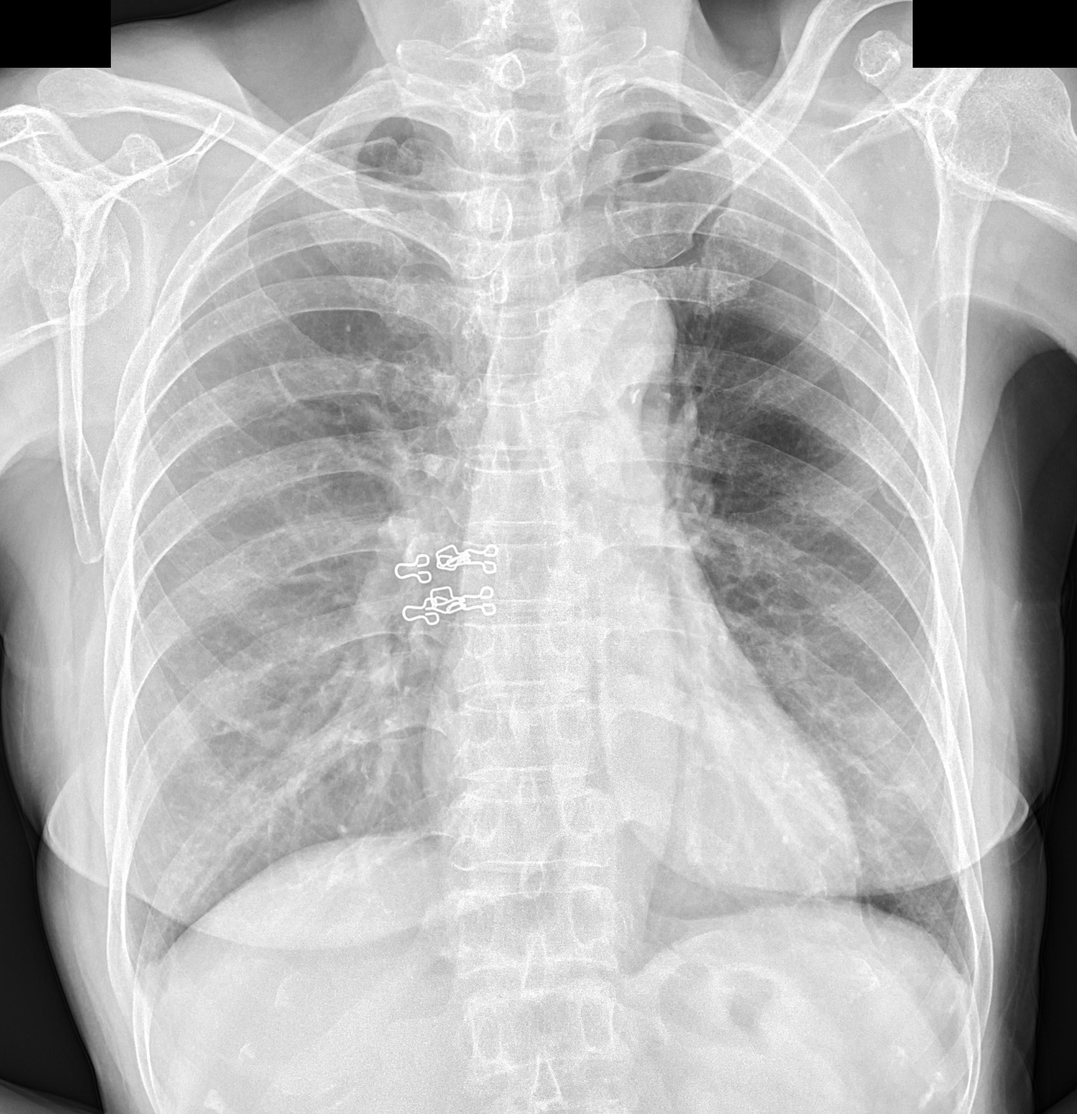Aortic enlargement: (531, 273, 679, 411)
Cardiomegaly: (415, 708, 862, 916)
Pleural thickening: (580, 109, 676, 228)
